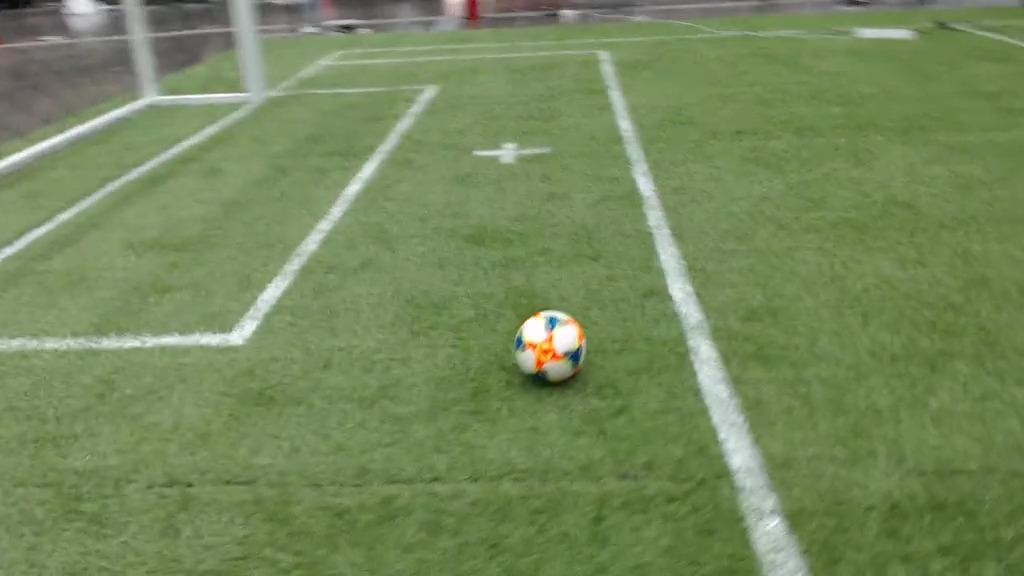ball: (513, 310, 587, 382)
